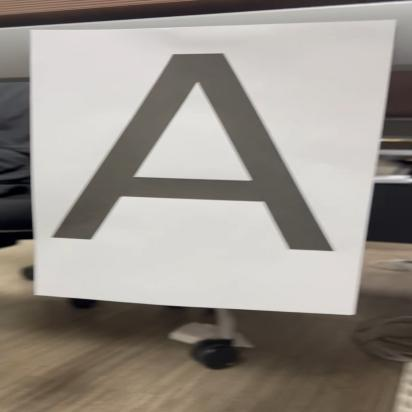seat: (56, 48, 358, 266)
